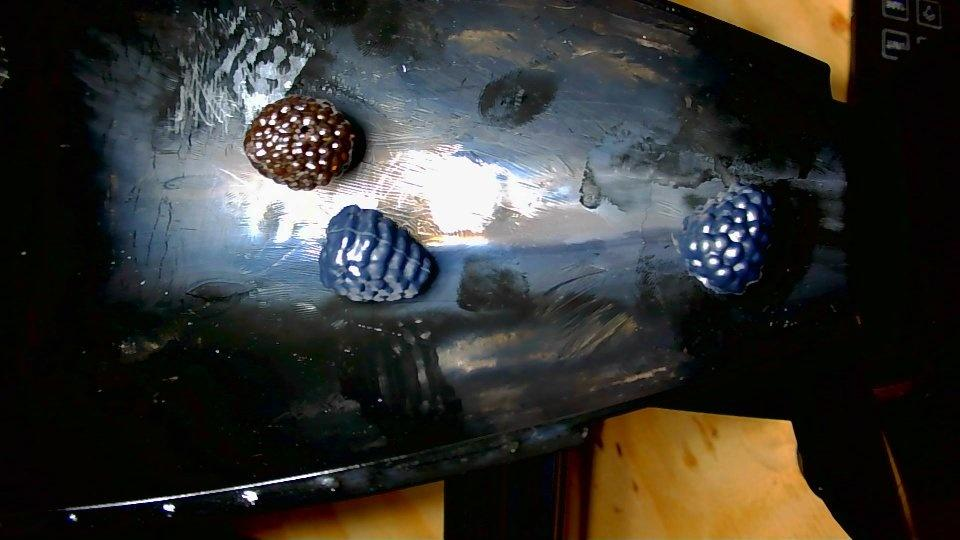berry: (318, 206, 437, 302), (674, 184, 772, 293), (244, 95, 356, 189)
